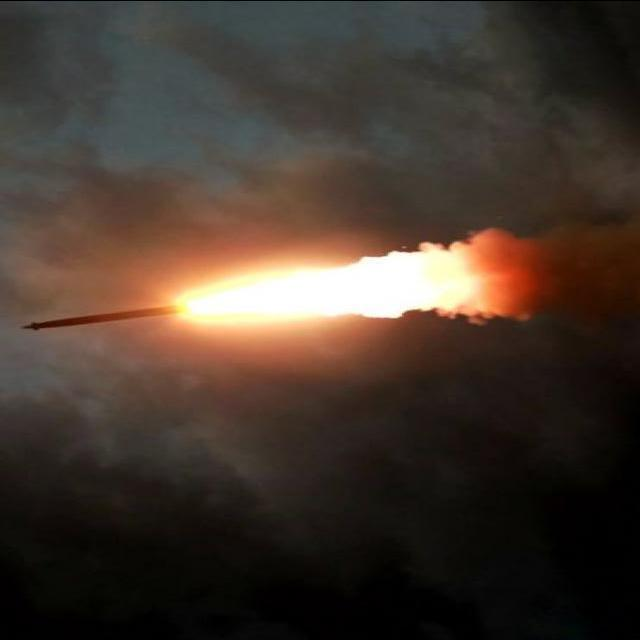missile: (3, 304, 195, 331)
